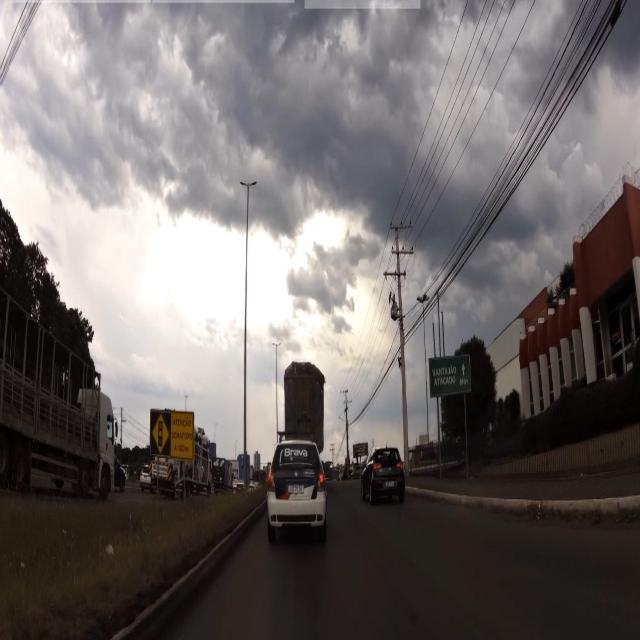A-14: (152, 413, 169, 453)
